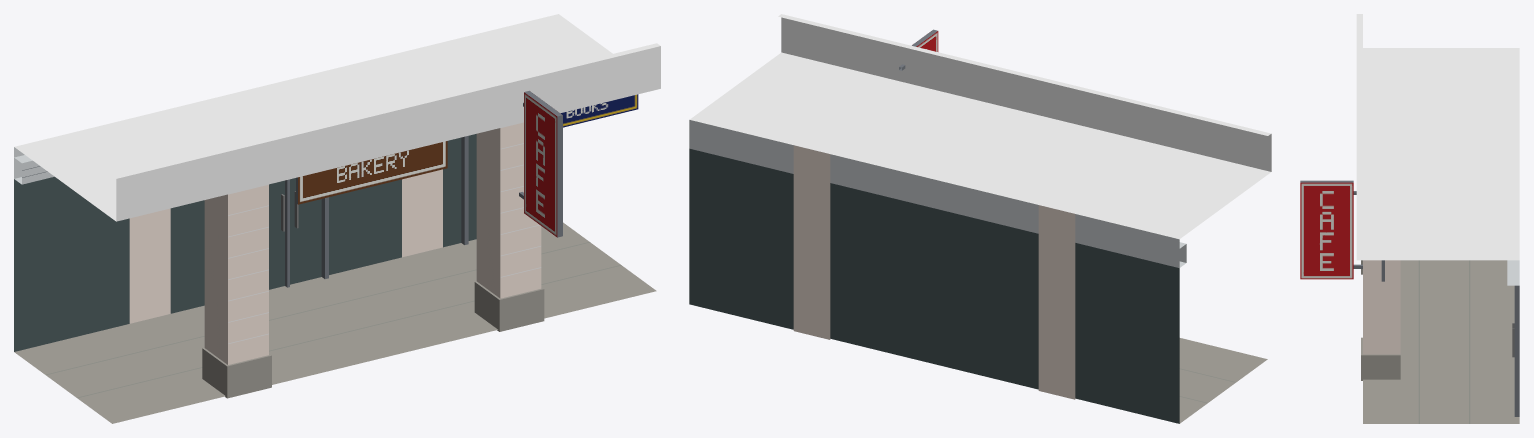
File: base-w2_close.fbx
3 renders of one model, left to right at view 1: azimuth 30°, elevation 25°; view 2: azimuth 150°, elevation 25°; view 3: azimuth 270°, elevation 25°, orthographic. The views are drawn at different scales.
Parts seen in each view (by area): view 1: a2011/300/base-w2_close; view 2: a2011/300/base-w2_close; view 3: a2011/300/base-w2_close.
Boxes of the visible parts, x1=… form: a2011/300/base-w2_close: x1=14, y1=14, x2=660, y2=423; a2011/300/base-w2_close: x1=689, y1=14, x2=1271, y2=423; a2011/300/base-w2_close: x1=1300, y1=14, x2=1519, y2=423.
Bounding box in the file's own units: 8 × 3.5 × 3.5.
